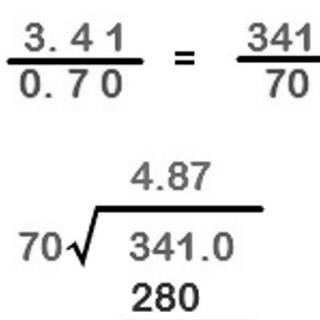.: (42, 86, 58, 100), (199, 251, 211, 266), (45, 42, 58, 55), (153, 181, 165, 194)
0: (98, 66, 127, 101), (38, 227, 63, 266), (210, 227, 235, 264), (16, 68, 44, 99), (178, 279, 200, 316), (287, 66, 309, 102)
1: (103, 15, 124, 56), (175, 225, 194, 266), (294, 17, 314, 54)
2: (128, 280, 154, 314)
3: (245, 18, 270, 54), (127, 227, 151, 264), (24, 16, 45, 57)
4: (126, 156, 154, 192), (69, 18, 94, 56), (268, 20, 295, 55), (151, 230, 177, 263)
7: (188, 158, 211, 197), (65, 67, 91, 101), (263, 65, 287, 101), (13, 228, 37, 264)
8: (152, 275, 176, 318), (165, 156, 191, 194)
